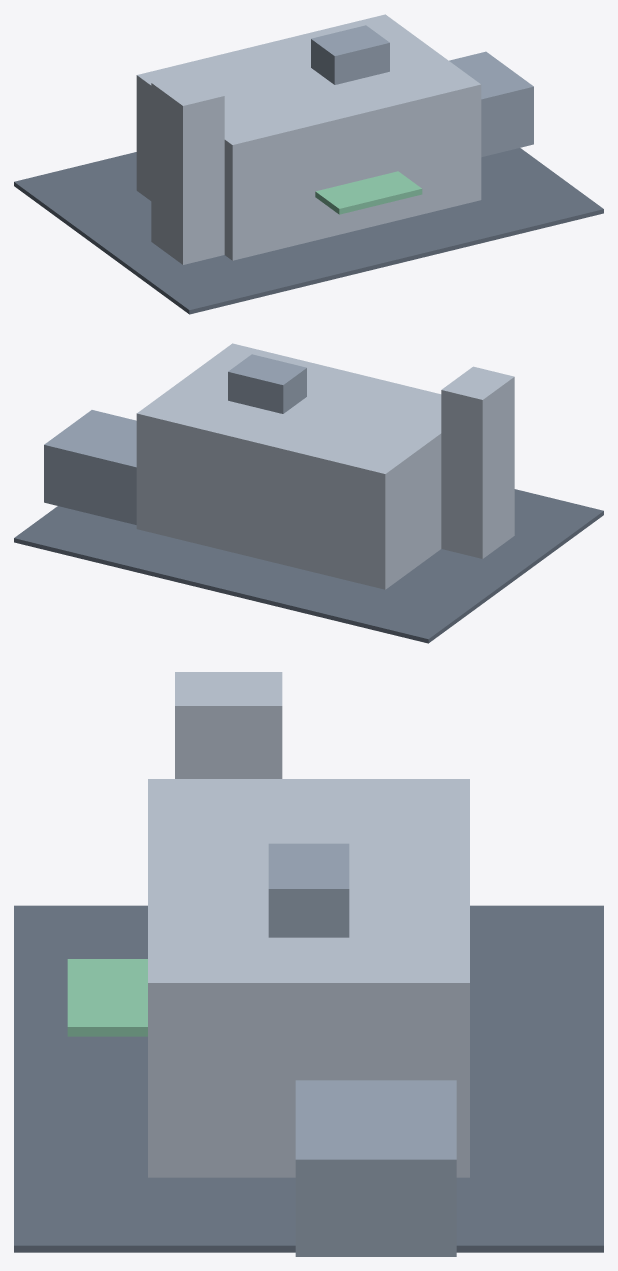
File: sample-building.glb
3 renders of one model, top to bottom at view 1: azimuth 30°, elevation 25°; view 2: azimuth 150°, elevation 25°; view 3: azimuth 270°, elevation 25°, orthographic. The views are drawn at different scales.
Visible parts, largest first — view 1: SampleBuilding; view 2: SampleBuilding; view 3: SampleBuilding.
Boxes of the visible parts, left/top/right/bottom form: SampleBuilding: left=14, top=14, right=603, bottom=314; SampleBuilding: left=14, top=343, right=603, bottom=643; SampleBuilding: left=14, top=672, right=603, bottom=1256.
Bounding box in the file's own units: 31 × 11.3 × 22.
